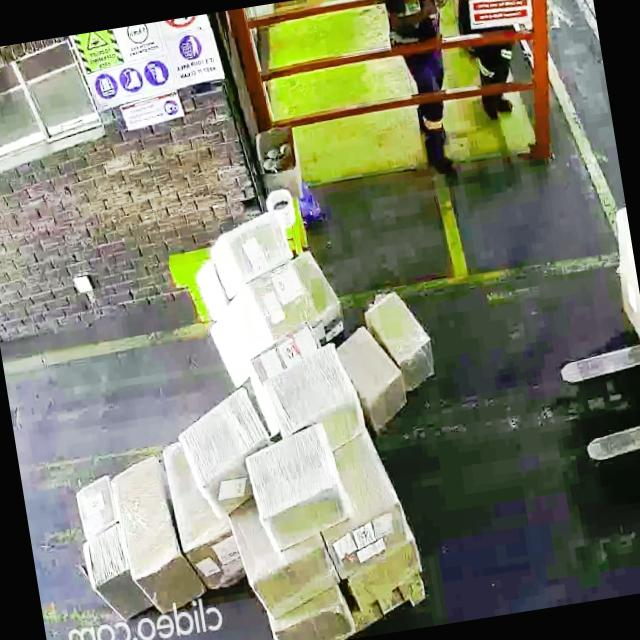Box: (242, 422, 354, 553), (172, 384, 276, 522), (116, 456, 188, 625), (203, 271, 311, 373), (264, 341, 360, 444), (374, 282, 440, 379), (209, 212, 289, 292), (330, 499, 410, 574), (80, 524, 138, 622), (343, 330, 402, 420), (256, 544, 334, 610), (192, 516, 242, 600), (267, 597, 352, 640), (69, 471, 118, 534)
